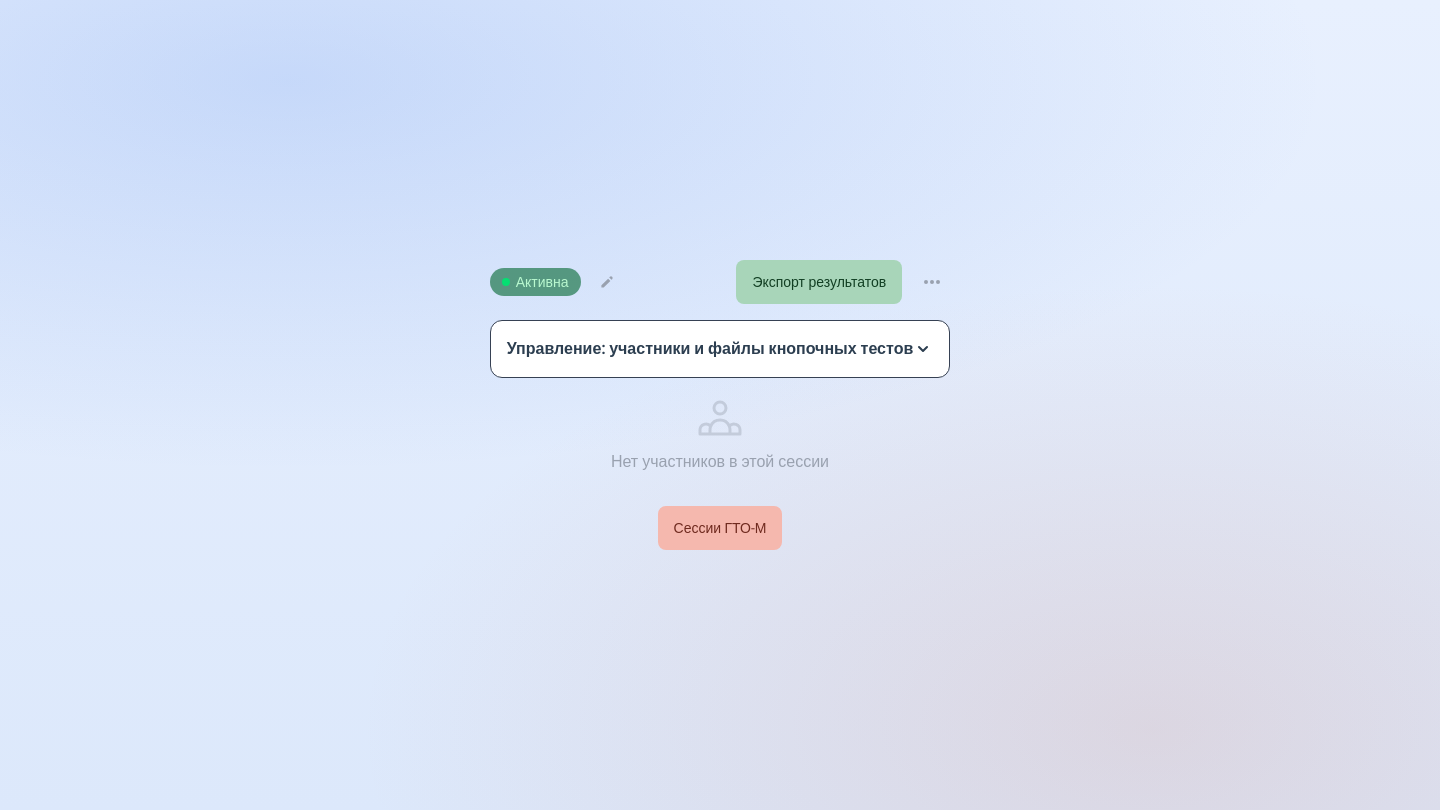
Test: /admin/gto/[id] — реструктурированная страница сессии › сетка файлов: рендер карточек и поиск
Click the button with aria-label "Карточки управления сессией". click: (720, 349)
box: [490, 320, 950, 378]
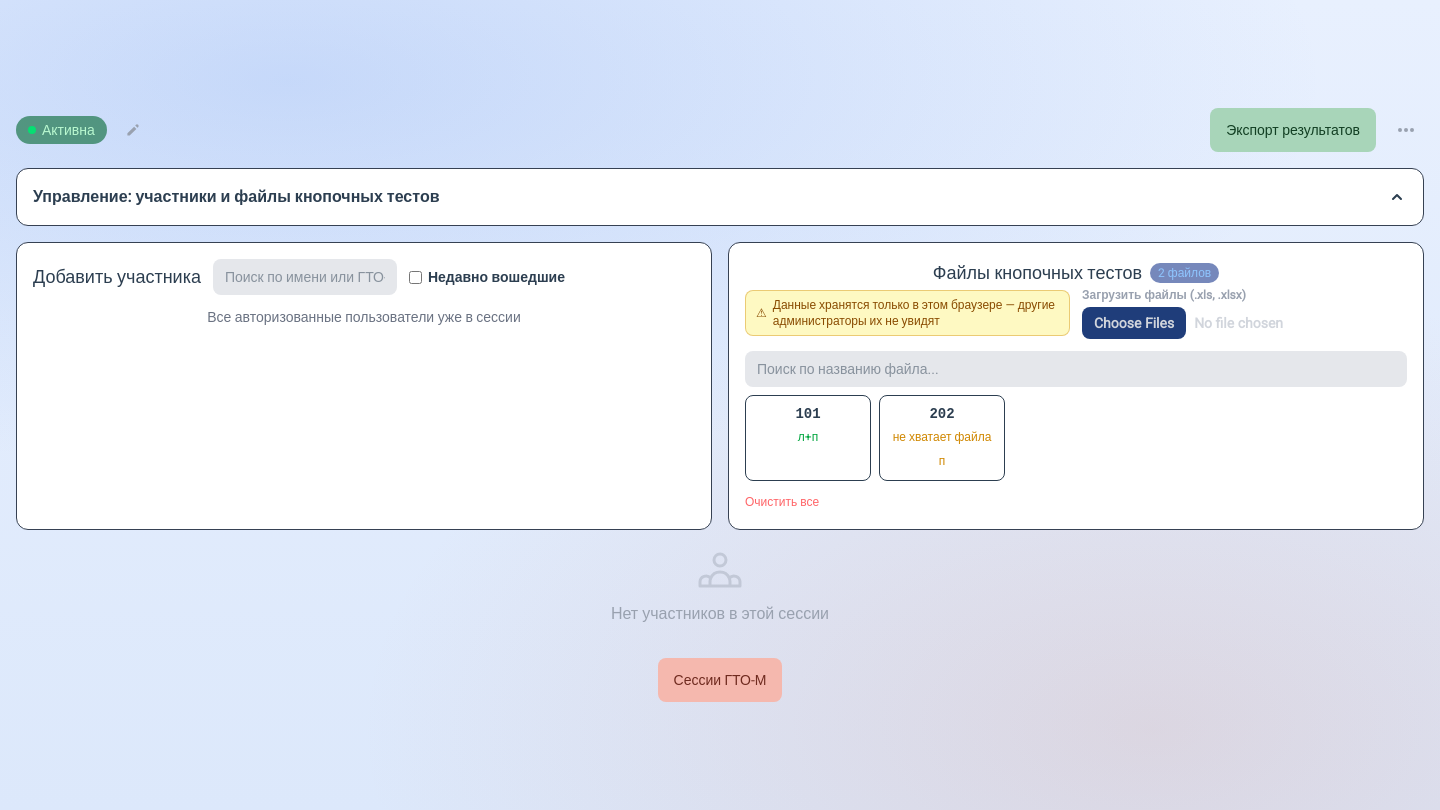
Result: the text "101" is shown at [795, 406, 821, 422]
Result: the text "202" is shown at [929, 406, 955, 422]
Result: the text "2 файлов" is shown at [1150, 263, 1219, 283]
Type "101" into the field with placeholder "Поиск по названию файла...". click: (1076, 369)
box: [745, 351, 1407, 387]
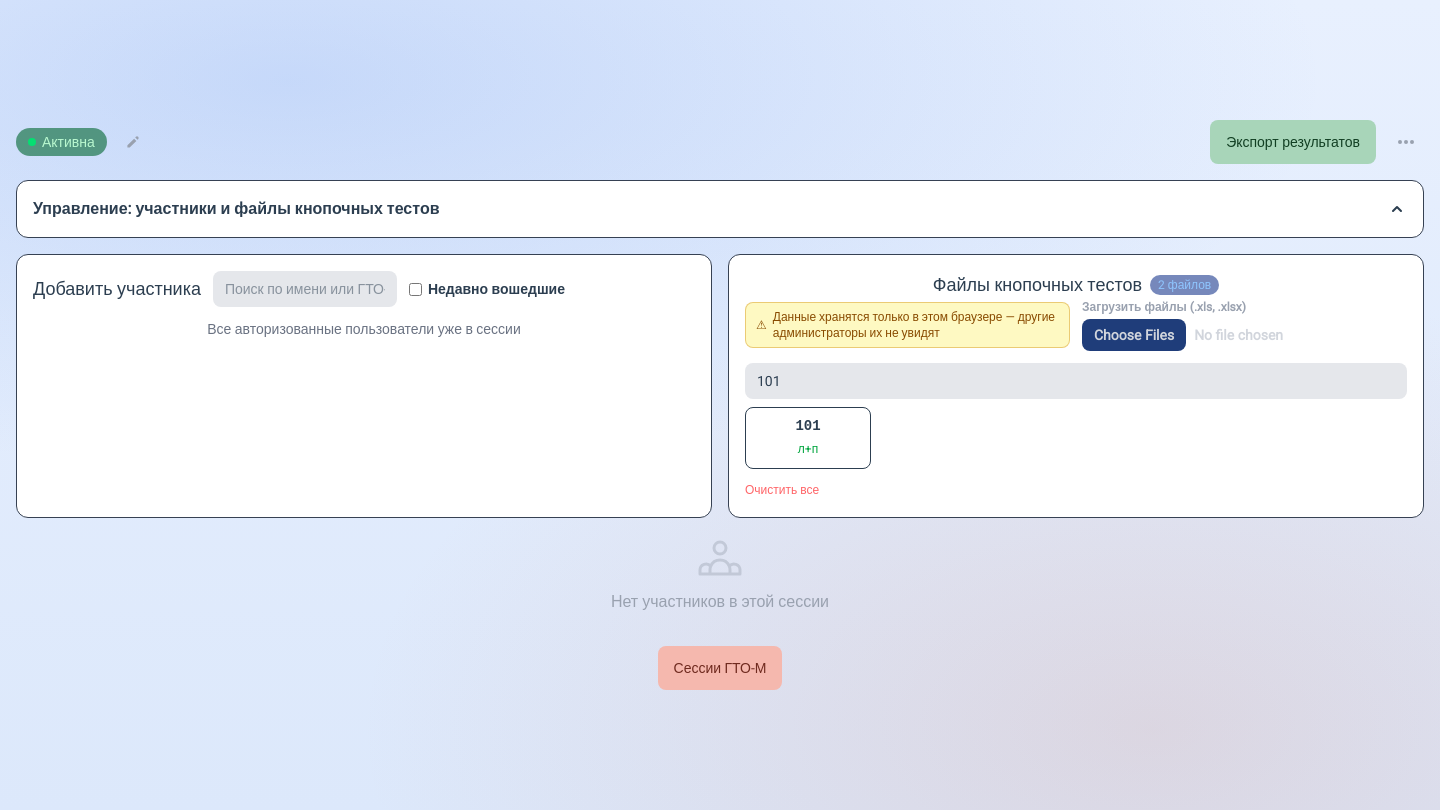
Result: the text "101" is shown at [795, 418, 821, 434]
Result: the text "202" is gone
Replace the text in the field with placeholder "Поиск по названию файла..." with "999". click: (1076, 381)
box: [745, 363, 1407, 399]
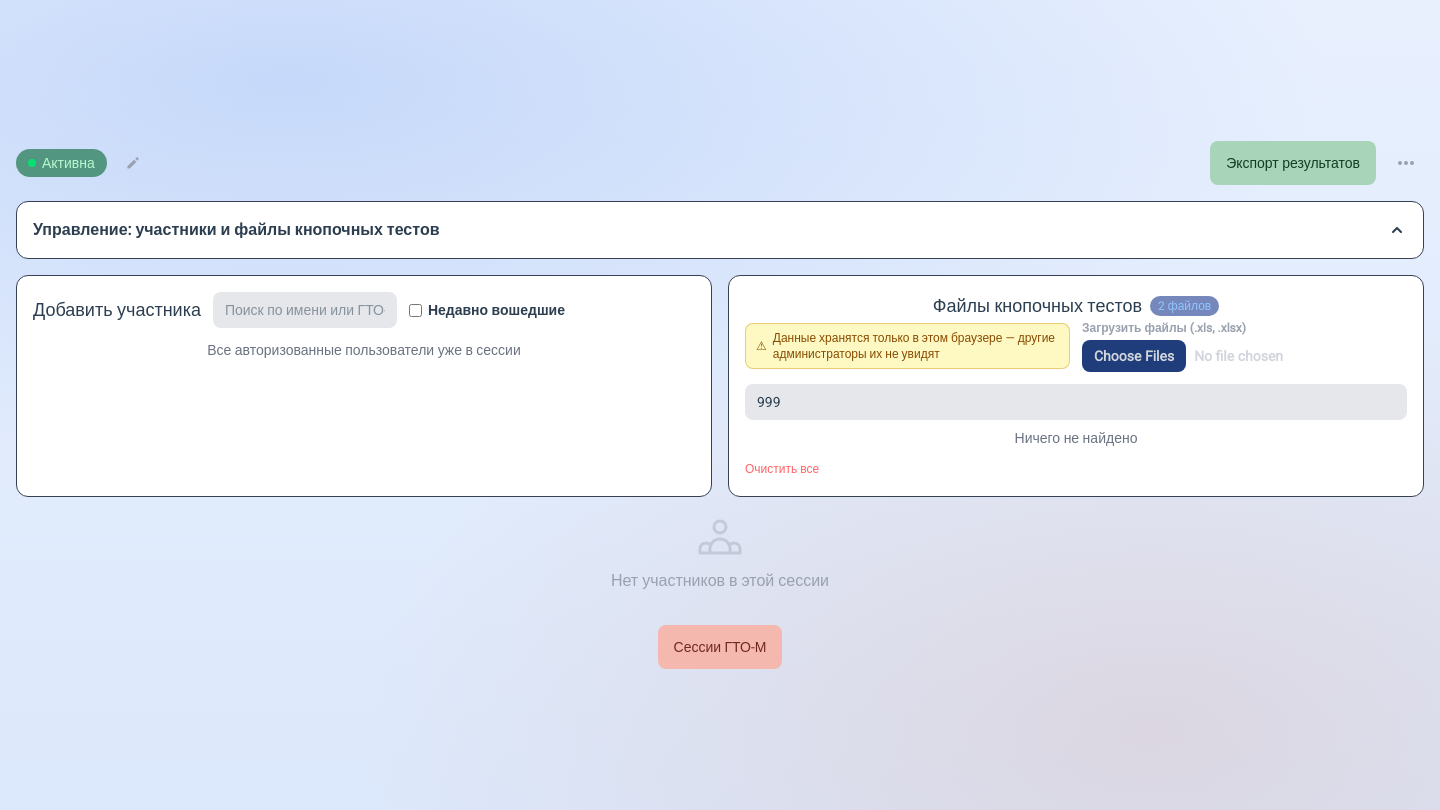
Result: the text "Ничего не найдено" is shown at [1015, 430, 1138, 446]
Result: the text "101" is gone
